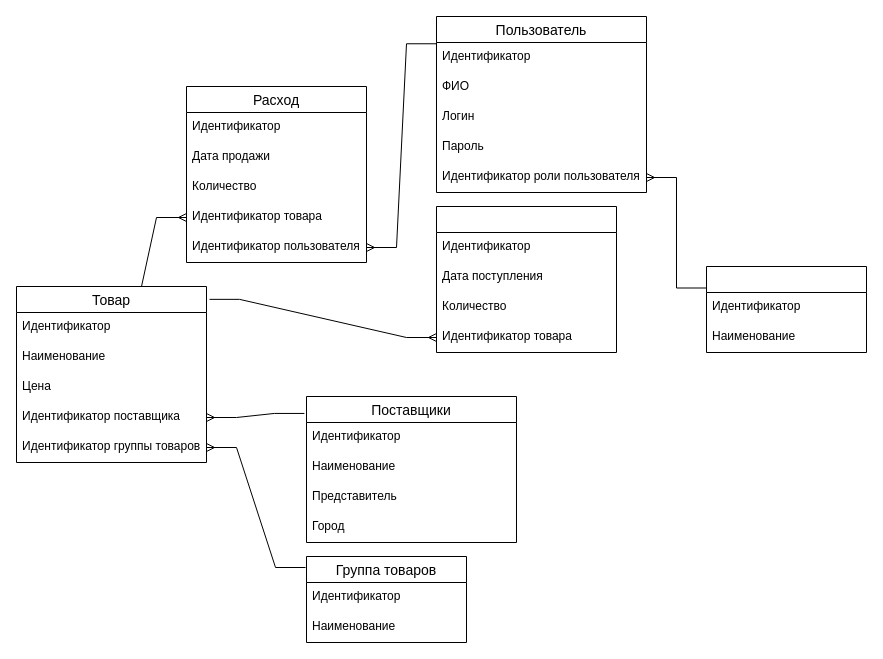
The diagram is 883 pixels wide and 659 high, and some of its shapes have lost their labels. The box of each missing label's shape, as (x1, y1, x2, y2) in pixels:
Приход: (436, 206, 616, 352)
Роль пользователя: (706, 266, 866, 352)
